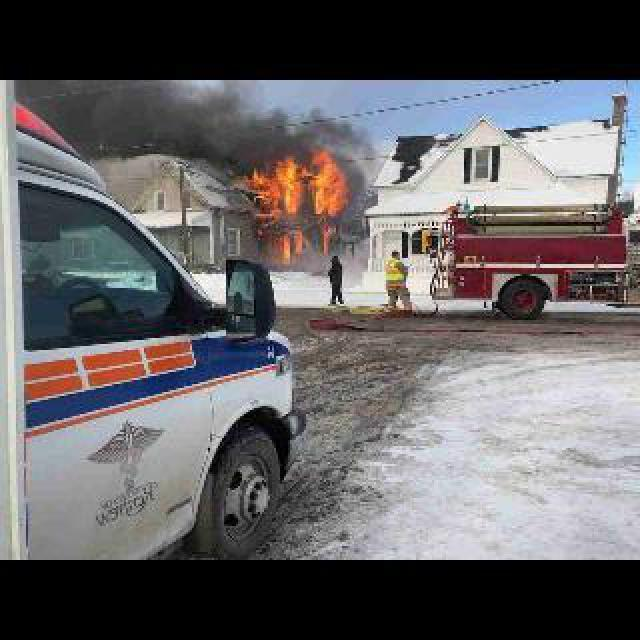Fire: (250, 146, 350, 264)
Smoke: (48, 82, 264, 160), (260, 98, 384, 142), (344, 144, 370, 222)
